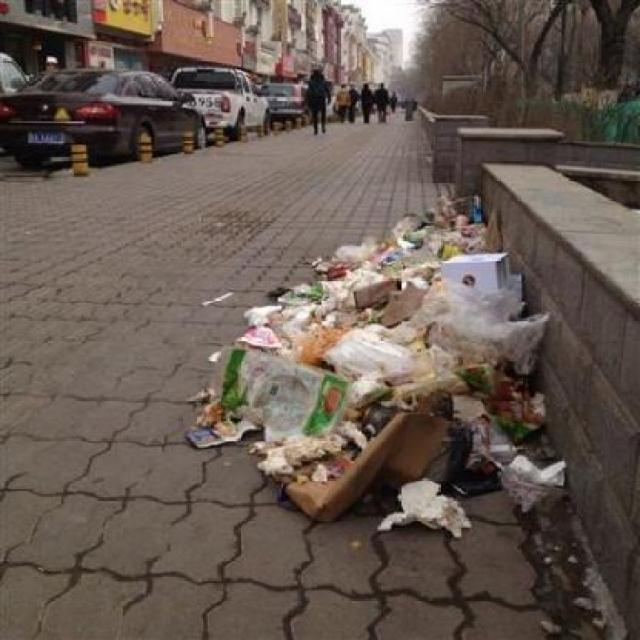garbage: (197, 208, 556, 542)
